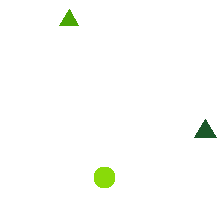circle: (94, 167, 114, 187)
triangle: (194, 119, 216, 137), (59, 9, 78, 25)
